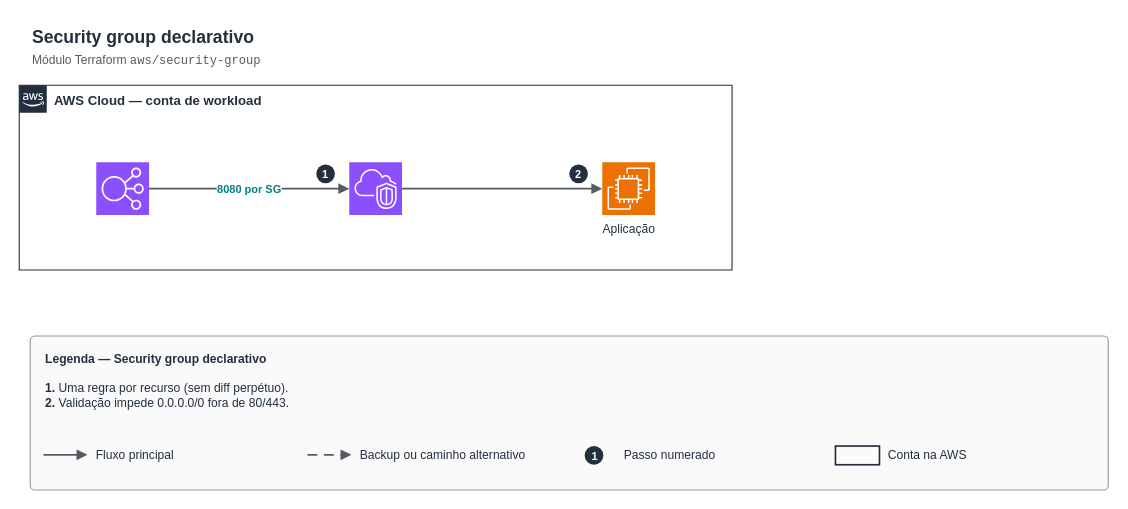
This 1128x509 diagram has some shape labels left out. The shapes that lost their labels are listed below. From the top down, each one's centre as x and y in pixels, then its label:
At point 122,188: "ALB".
At point 375,188: "Security group".
